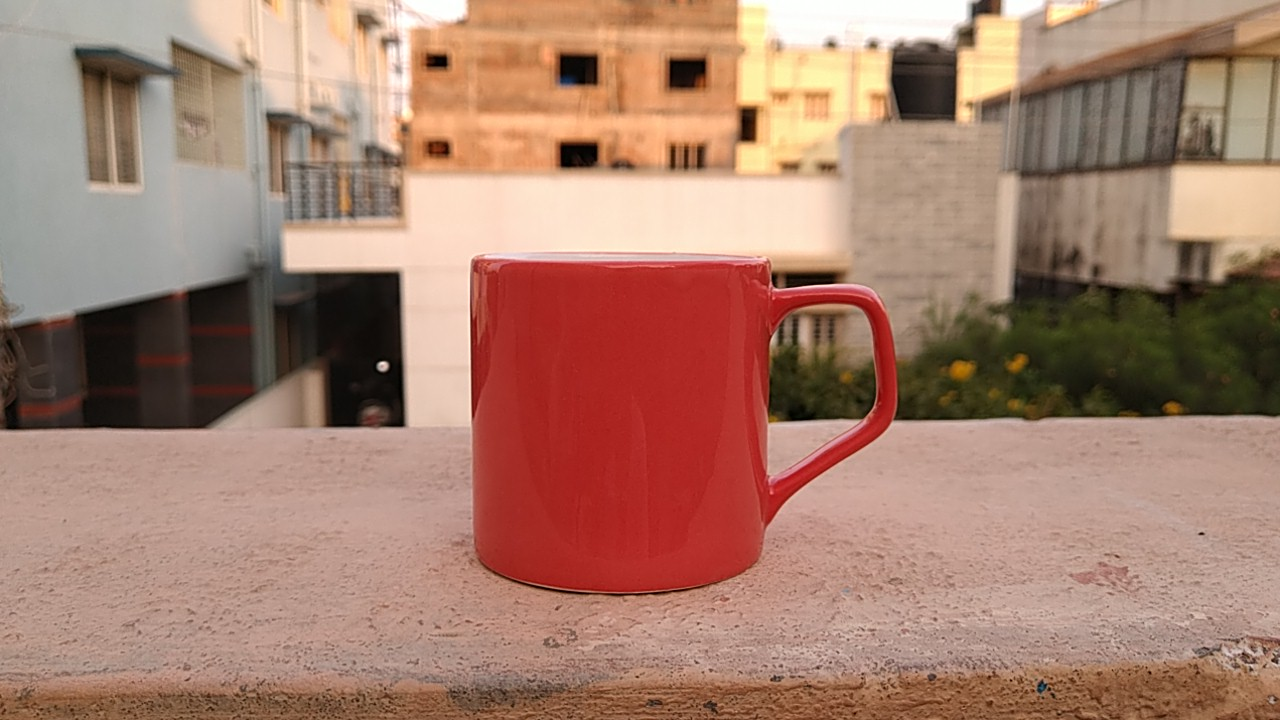cup: (440, 230, 933, 620)
